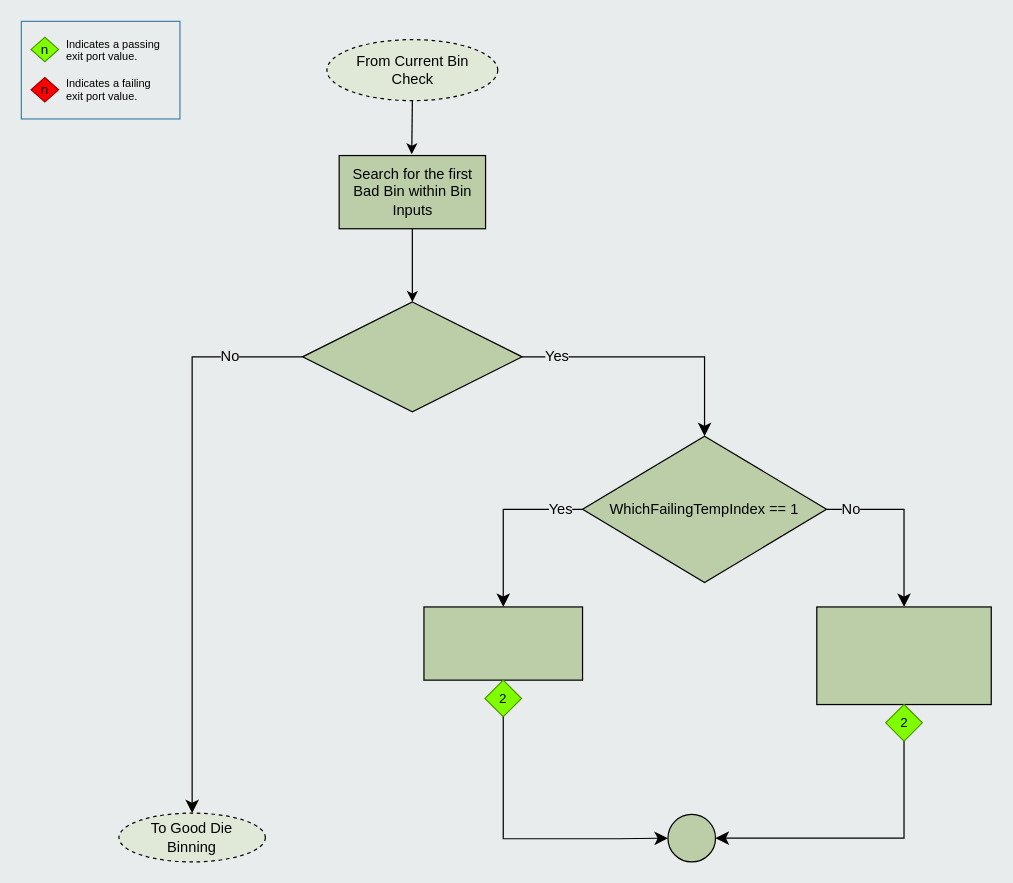
Some shapes in this 1013 by 883 pixel diagram are drawn without their labels. The centre of each missing label's shape, as x and y in pixels:
"End" goes at (691,837).
"Set TBin to Bad Bin with WhichFailingTempIndex as Prefix." goes at (903,655).
"Set TBin to Bin Input 1." goes at (503,643).
"Was a Bad Bin Found?" goes at (411,356).
